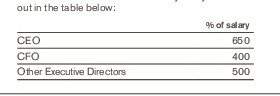table: (0, 0, 280, 96)
